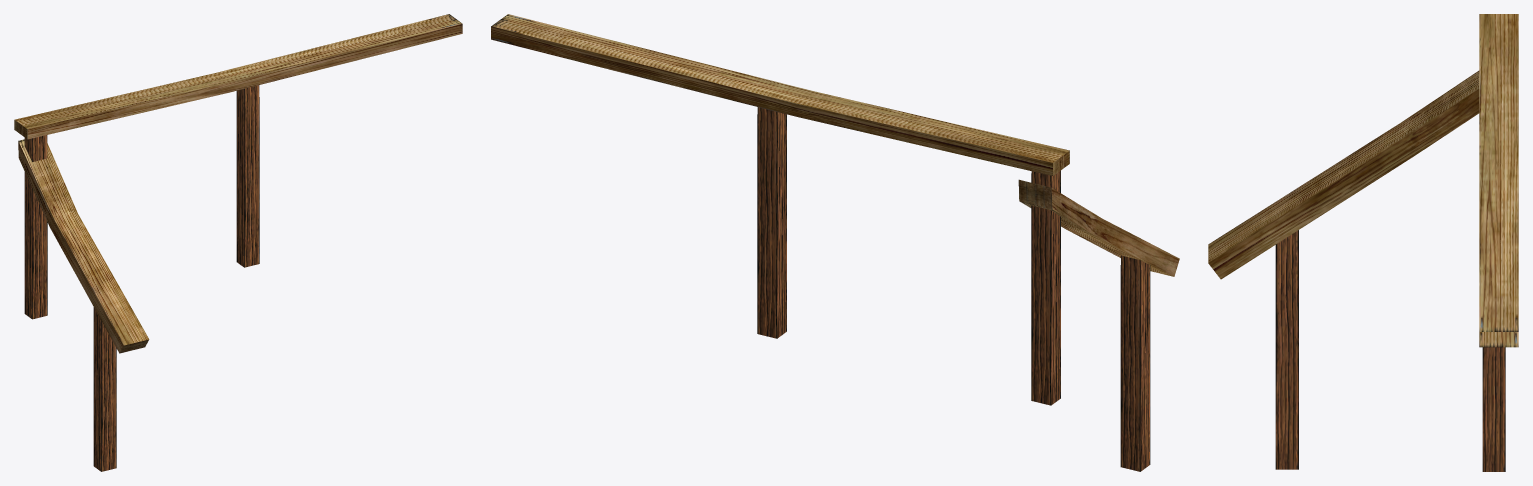
Rendered from LAKETOWN_GENHOUSE1_PS_GH1_HANDRAIL575__GX.fbx.
3 renders of one model, left to right at view 1: azimuth 30°, elevation 25°; view 2: azimuth 150°, elevation 25°; view 3: azimuth 270°, elevation 25°, orthographic. The views are drawn at different scales.
Parts seen in each view (by area): view 1: LAKETOWN_GENHOUSE1_PS_GH1_HANDRAIL575__GX; view 2: LAKETOWN_GENHOUSE1_PS_GH1_HANDRAIL575__GX; view 3: LAKETOWN_GENHOUSE1_PS_GH1_HANDRAIL575__GX.
Boxes of the visible parts, x1,y1,x2,y2 form: LAKETOWN_GENHOUSE1_PS_GH1_HANDRAIL575__GX: [14, 14, 462, 471]; LAKETOWN_GENHOUSE1_PS_GH1_HANDRAIL575__GX: [491, 14, 1179, 471]; LAKETOWN_GENHOUSE1_PS_GH1_HANDRAIL575__GX: [1208, 14, 1518, 471].
Bounding box in the file's own units: 24119 × 15596 × 9974.
2 materials, 2 textured.
